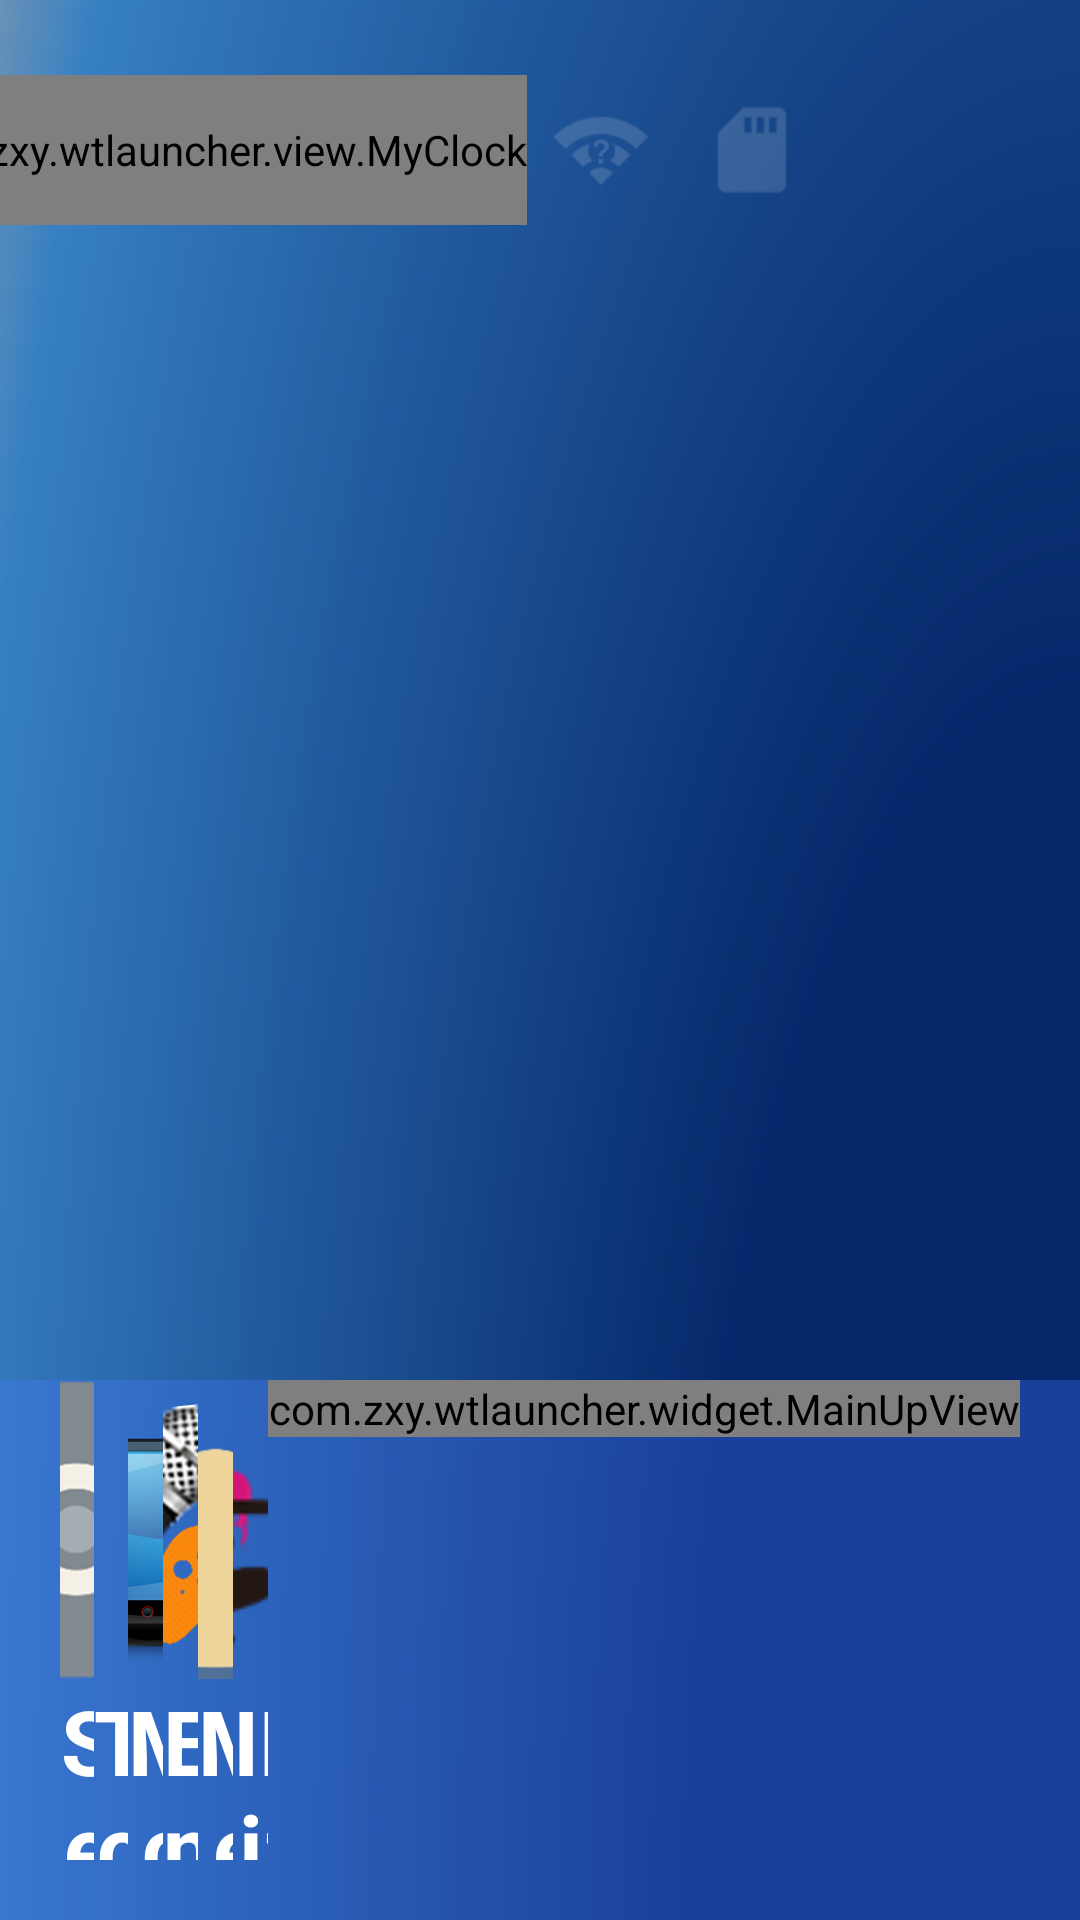

Named icons in this screenshot (1080×1920) and their bounding boxes, (x1, y1, x2, y2):
neterror: (554, 117, 647, 184)
